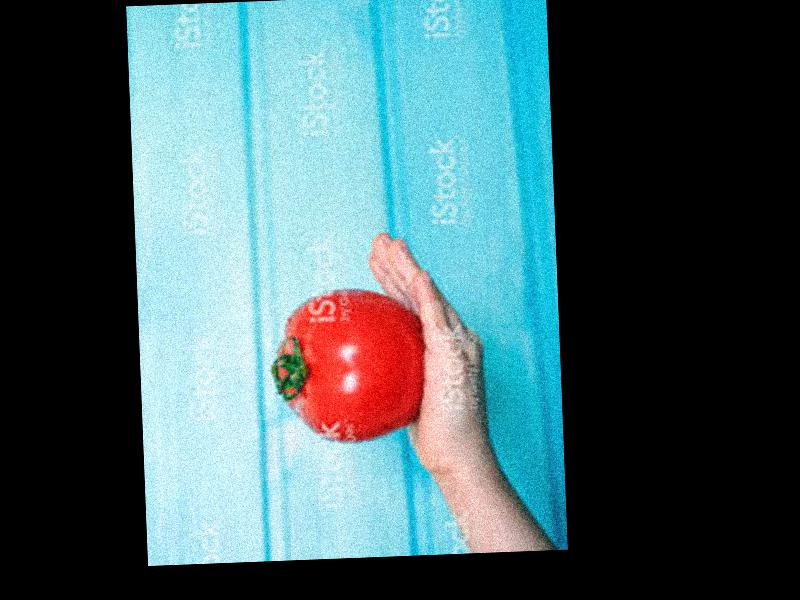Tomato: (270, 285, 428, 442)
